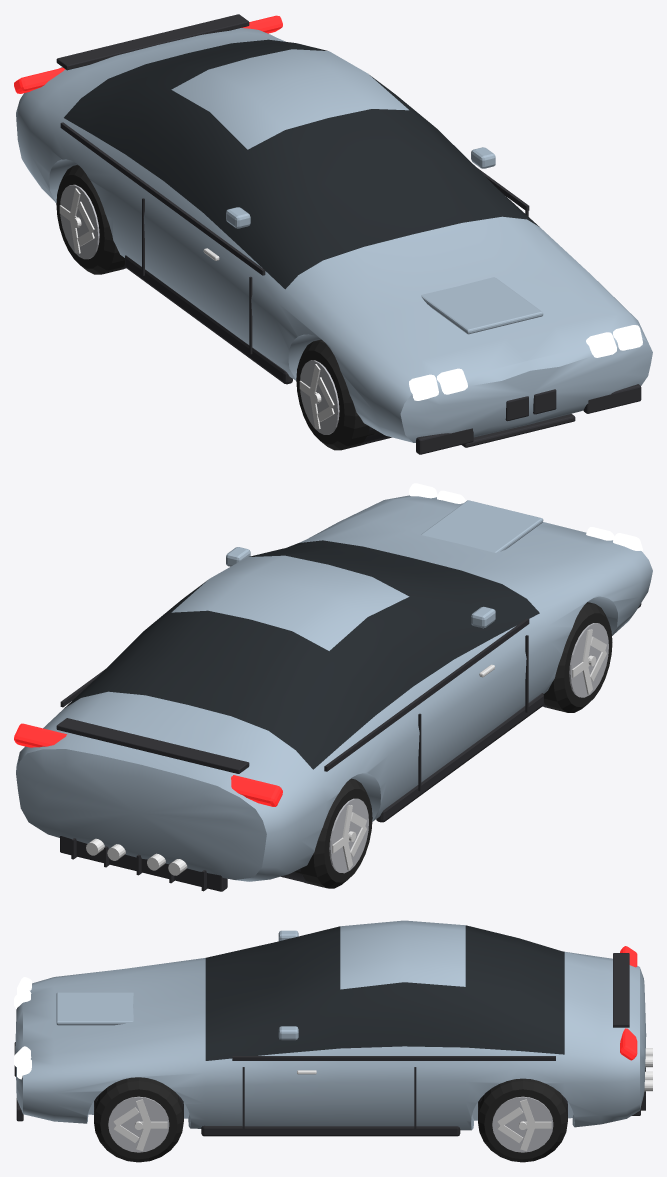
3 views of the same model, one above another, from view 1: azimuth 30°, elevation 25°; view 2: azimuth 150°, elevation 25°; view 3: azimuth 270°, elevation 25° (orthographic). The views are drawn at different scales.
Parts seen in each view (by area): view 1: body, wheel_fr, wheel_rr, dome, lip, sill, belt_trim, duct, head_o, head_i, tail_l, splitter (+1 smaller); view 2: body, wheel_rr, wheel_fr, dome, lip, sill, tail_l, belt_trim, diffuser, mirror, head_o; view 3: body, wheel_fl, wheel_rl, sill, dome, belt_trim, lip, tail_l, mirror, head_i, head_o.
Part boxes in pixels (bbox=[...]): body: bbox=[16, 28, 652, 442]; wheel_fr: bbox=[296, 339, 374, 450]; wheel_rr: bbox=[56, 164, 124, 274]; dome: bbox=[421, 277, 543, 334]; lip: bbox=[56, 14, 249, 70]; sill: bbox=[125, 255, 292, 384]; belt_trim: bbox=[60, 122, 529, 275]; duct: bbox=[416, 384, 641, 454]; head_o: bbox=[409, 325, 642, 400]; head_i: bbox=[437, 332, 616, 394]; tail_l: bbox=[14, 15, 282, 93]; splitter: bbox=[462, 414, 575, 447]; body: bbox=[16, 495, 652, 881]; wheel_rr: bbox=[294, 778, 372, 888]; wheel_fr: bbox=[543, 602, 612, 712]; dome: bbox=[421, 500, 543, 552]; lip: bbox=[56, 718, 249, 773]; sill: bbox=[376, 693, 543, 822]; tail_l: bbox=[14, 723, 282, 806]; belt_trim: bbox=[60, 618, 529, 771]; diffuser: bbox=[60, 836, 227, 891]; mirror: bbox=[226, 547, 495, 628]; head_o: bbox=[409, 483, 642, 551]; body: bbox=[15, 920, 646, 1130]; wheel_fl: bbox=[94, 1077, 183, 1162]; wheel_rl: bbox=[478, 1078, 567, 1162]; sill: bbox=[201, 1125, 460, 1136]; dome: bbox=[56, 992, 133, 1025]; belt_trim: bbox=[232, 1056, 555, 1060]; lip: bbox=[613, 953, 629, 1027]; tail_l: bbox=[620, 946, 637, 1060]; mirror: bbox=[278, 930, 298, 1040]; head_i: bbox=[14, 988, 31, 1066]; head_o: bbox=[17, 977, 31, 1079].
Size of the model in its own units: 1.84 by 1.35 by 4.54.
